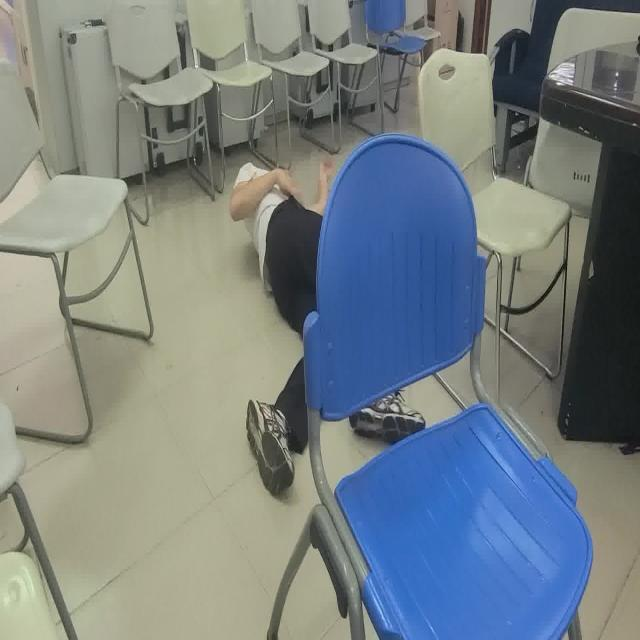fall: (228, 156, 426, 480)
